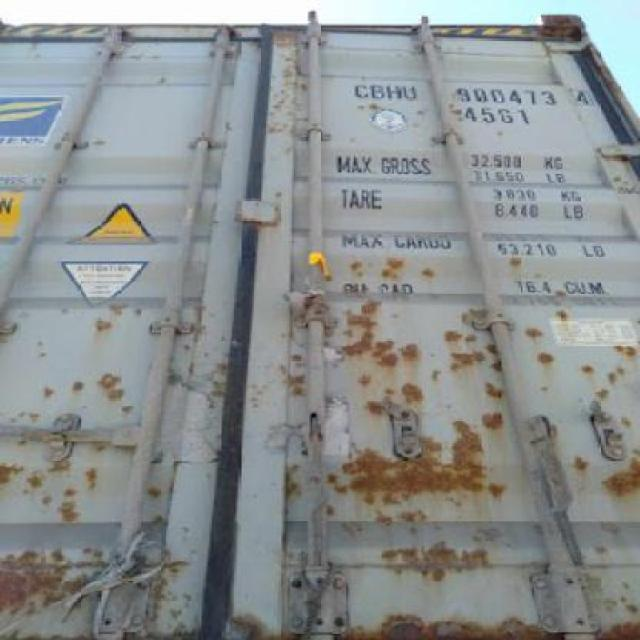ISO: (462, 104, 538, 130)
container_number: (351, 74, 594, 108)
